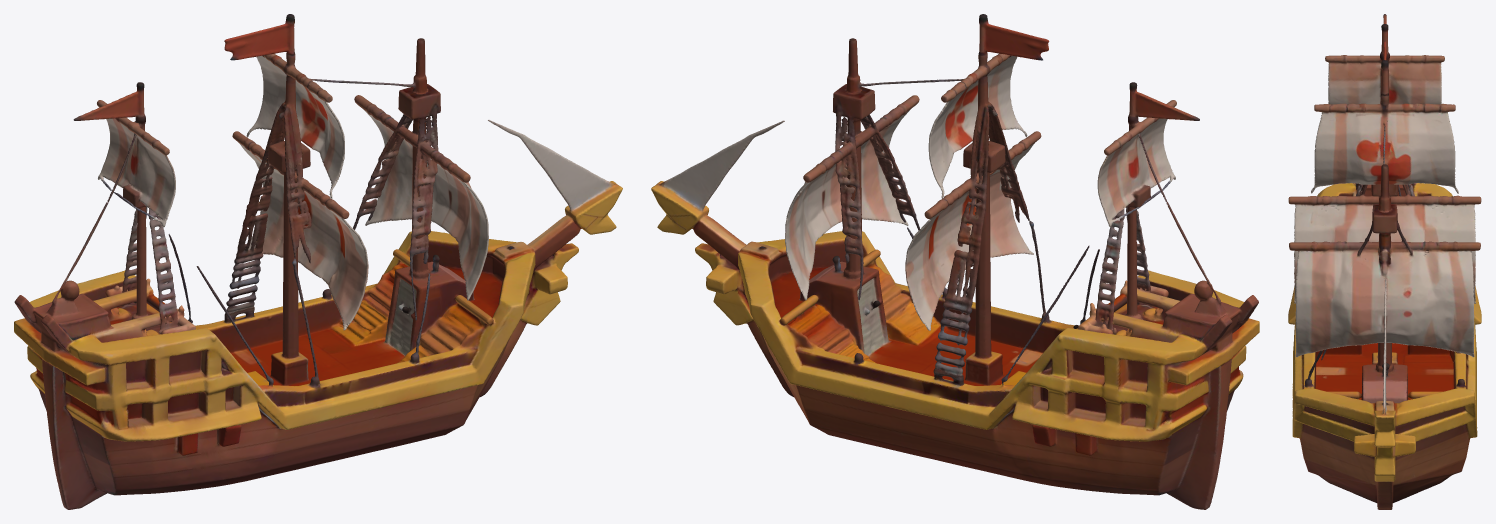
File: pirate_ship.glb
The picture shows the model from 3 angles, left to right: view 1: azimuth 30°, elevation 25°; view 2: azimuth 150°, elevation 25°; view 3: azimuth 270°, elevation 25°; orthographic projection. The views are drawn at different scales.
Visible parts, largest first — view 1: tripo_node_7d81450c-b332-4d89-ae5c-7cf61444e083; view 2: tripo_node_7d81450c-b332-4d89-ae5c-7cf61444e083; view 3: tripo_node_7d81450c-b332-4d89-ae5c-7cf61444e083.
Boxes of the visible parts, x1,y1,x2,y2 form: tripo_node_7d81450c-b332-4d89-ae5c-7cf61444e083: (14,14,622,509); tripo_node_7d81450c-b332-4d89-ae5c-7cf61444e083: (651,14,1259,509); tripo_node_7d81450c-b332-4d89-ae5c-7cf61444e083: (1288,14,1481,509).
Bounding box in the file's own units: 1 × 0.7156 × 0.328.
1 material, 1 textured.
